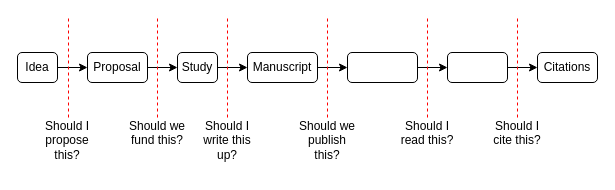
This 615x190 diagram has some shape labels left out. The shapes that lost their labels are listed below. From the top down, each one's centre as x and y in pixels, then its label:
the point at 382,67: Publication
the point at 477,67: Readings
